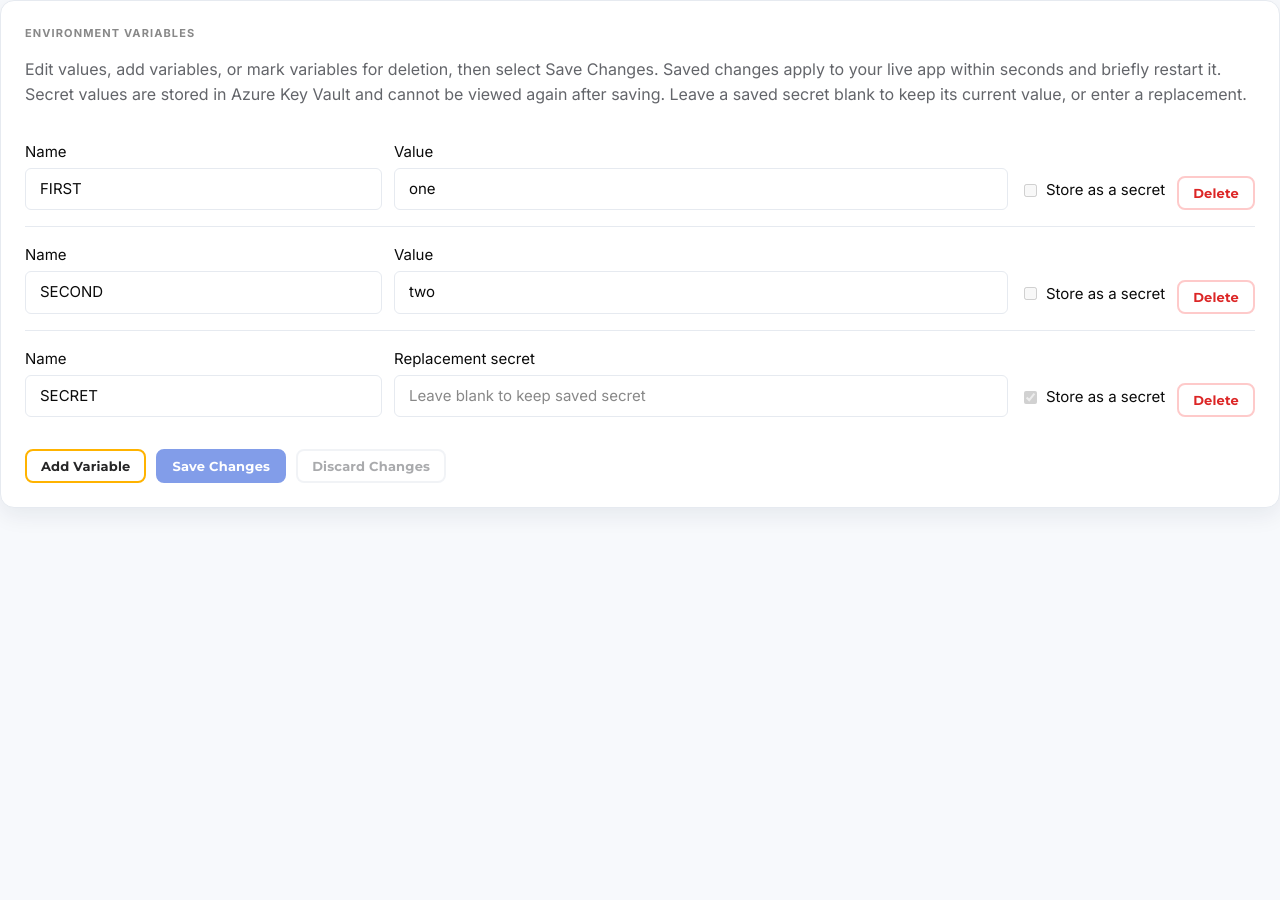
Test case: discards draft additions, edits, and deletions
The width and height of the screenshot is (1280, 900).
Replace the text in the field named "Value for FIRST" with "updated" at (701, 189), box [394,168,1008,210]
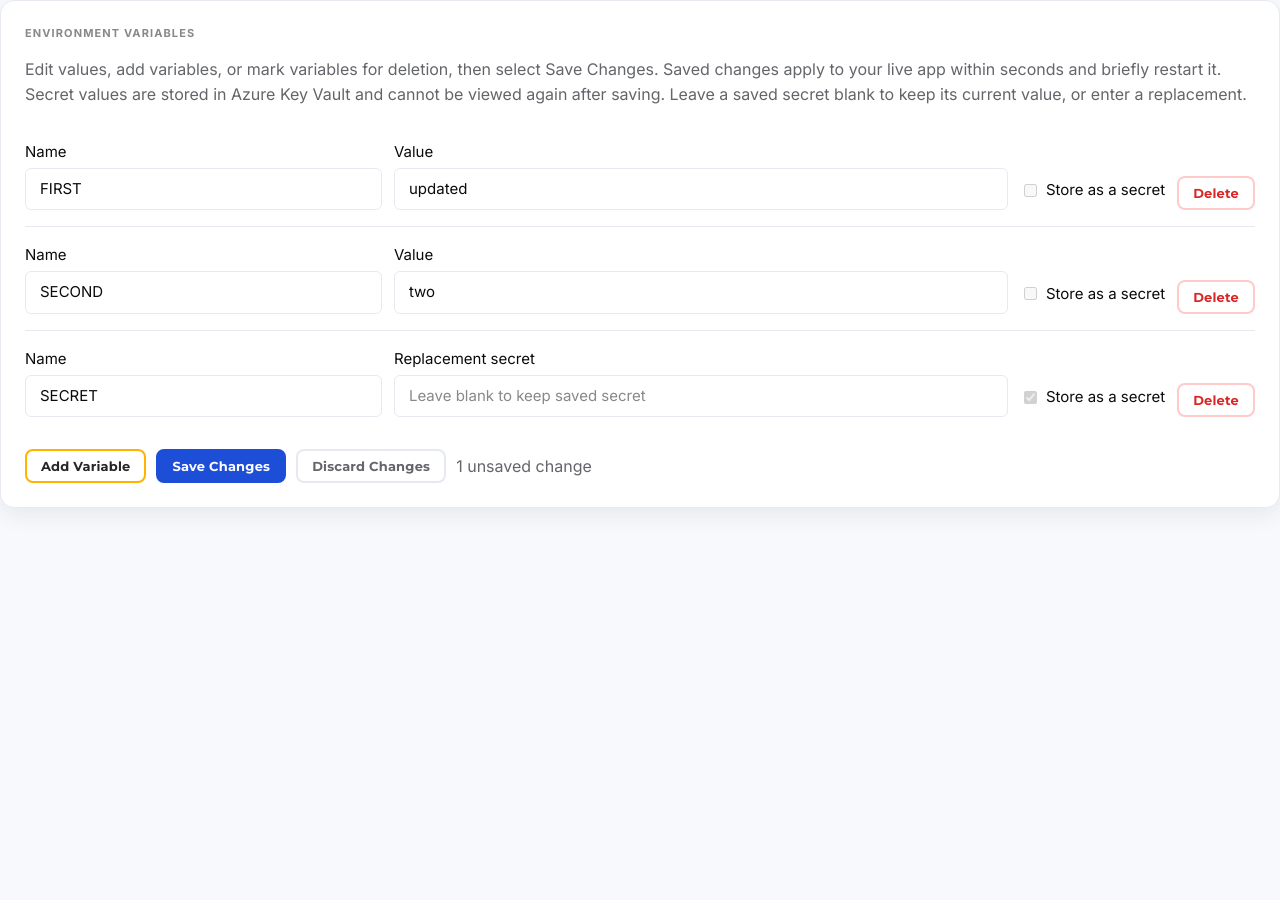
Click the button with aria-label "Delete SECOND" at (1216, 297), box [1177,280,1255,314]
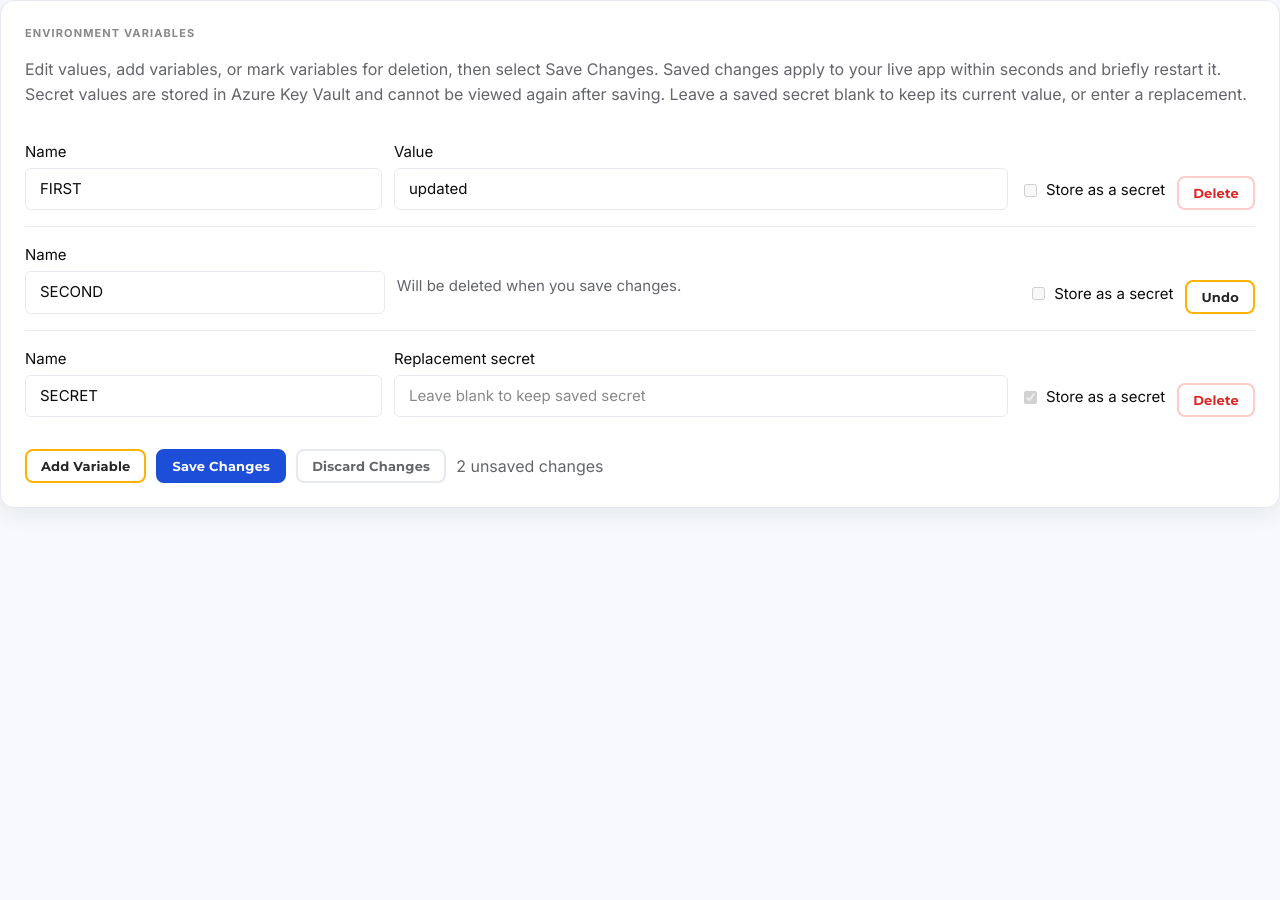
Click the button "Add Variable" at (86, 466), box [25,449,146,484]
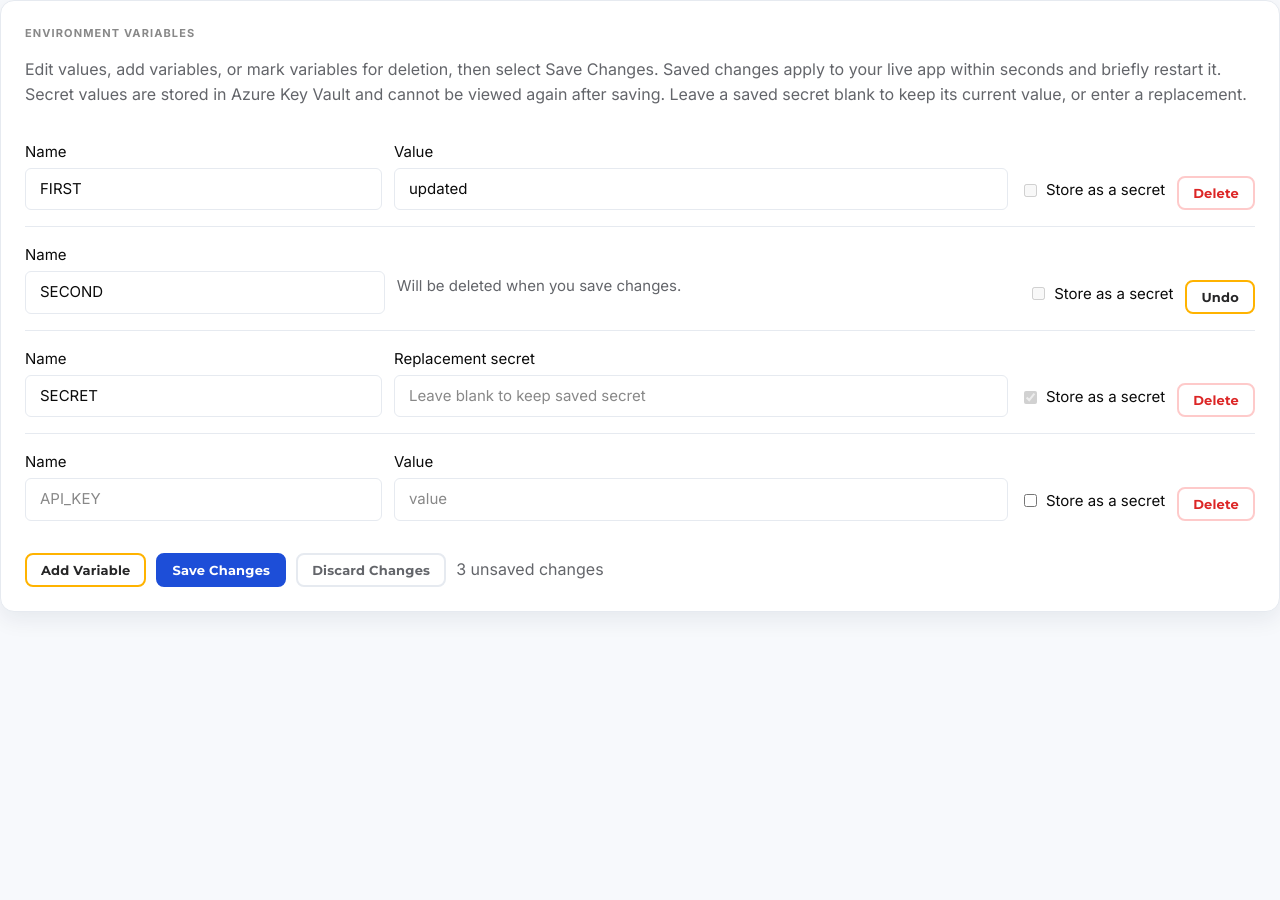
Click the button "Discard Changes" at (371, 570), box [296,553,446,587]
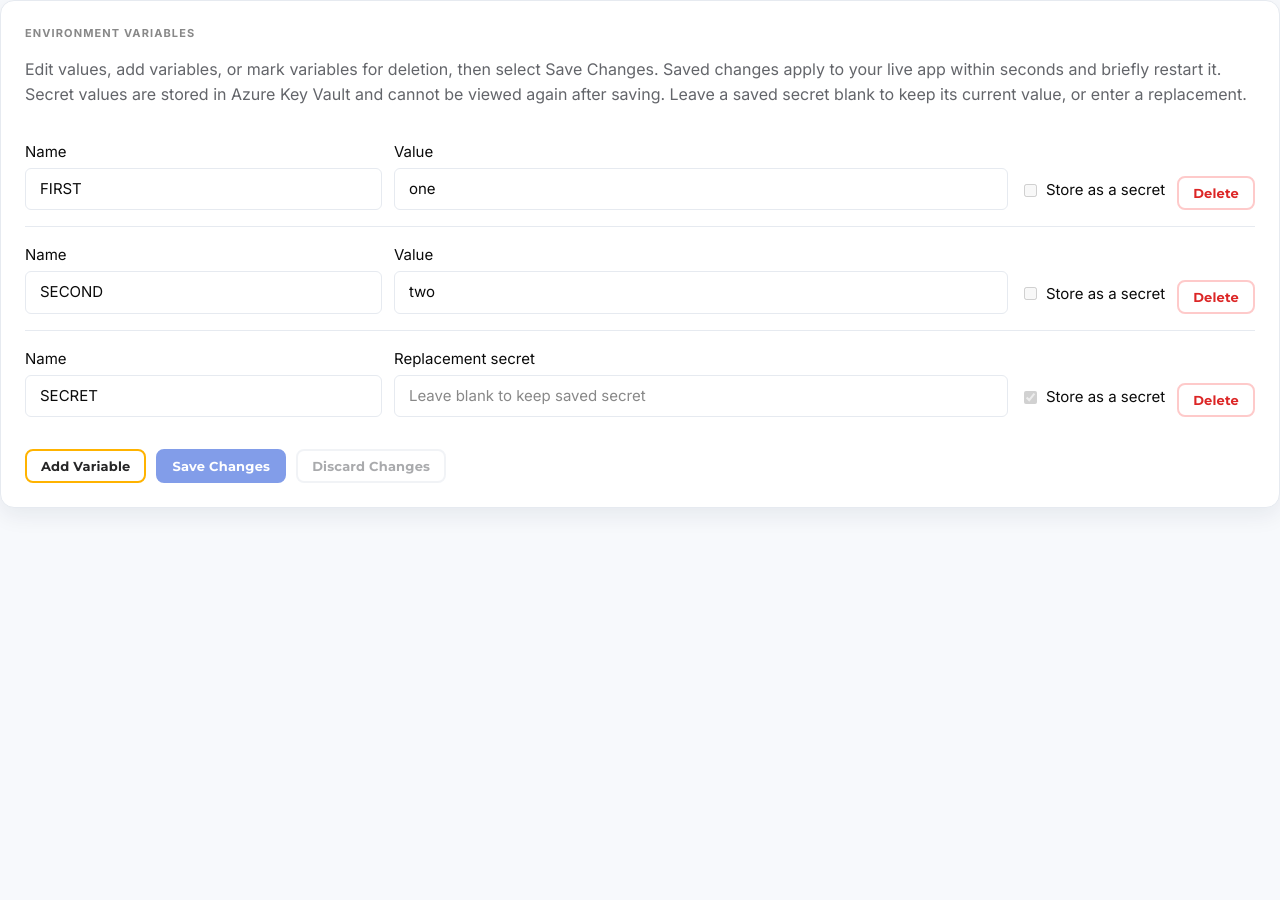
Check: the field named "Value for FIRST" holds "one", box [394,168,1008,210]
Check: the field named "Value for SECOND" holds "two", box [394,271,1008,314]
